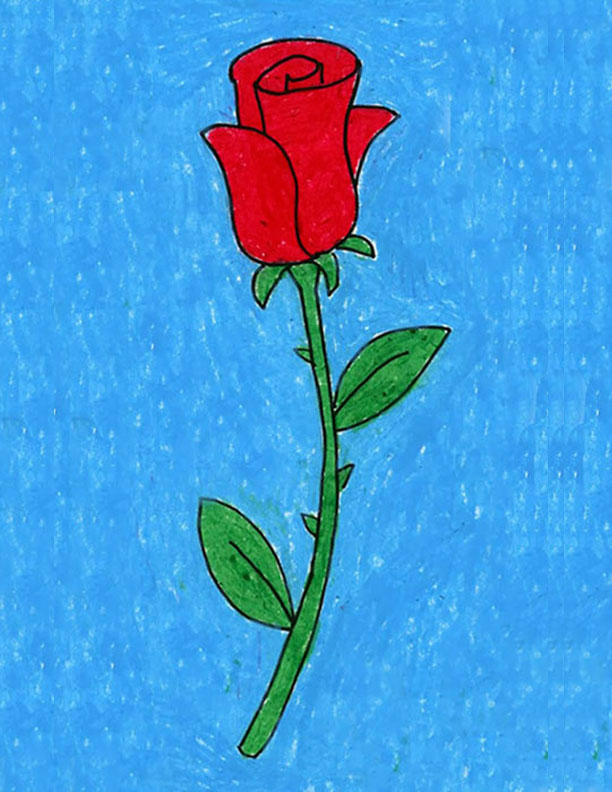rose: (178, 26, 422, 285)
